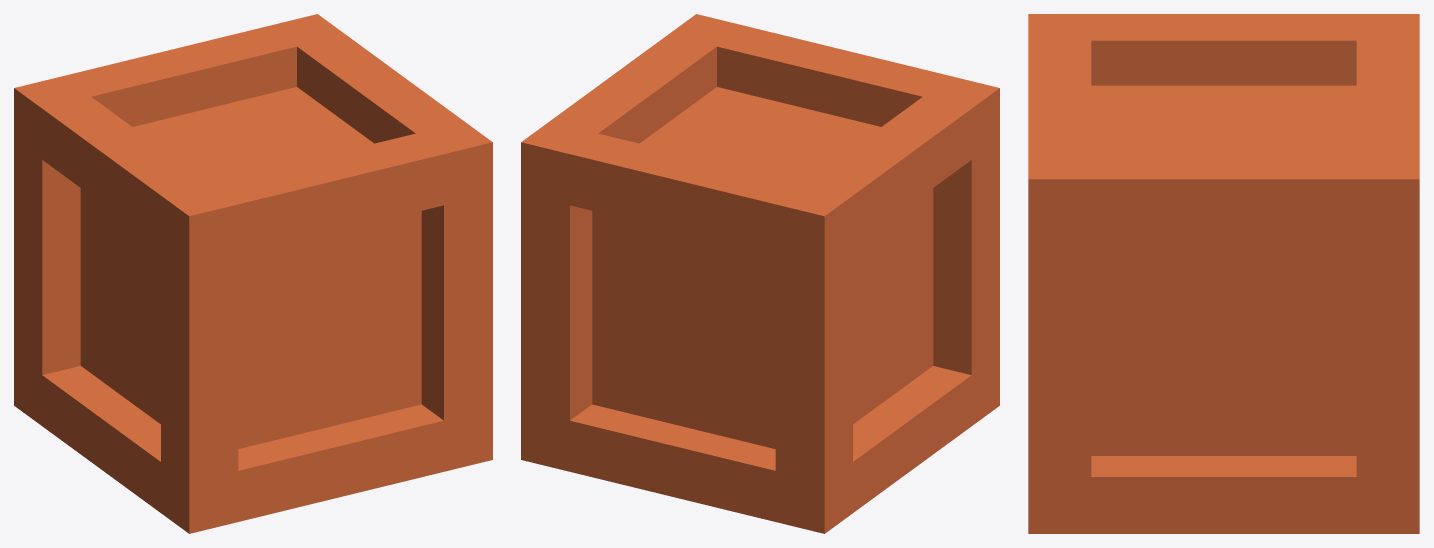
3 views of the same model, side by side, from view 1: azimuth 30°, elevation 25°; view 2: azimuth 150°, elevation 25°; view 3: azimuth 270°, elevation 25° (orthographic). The views are drawn at different scales.
Parts seen in each view (by area): view 1: Cube; view 2: Cube; view 3: Cube.
Part boxes in pixels (x1=…): Cube: x1=14, y1=14, x2=492, y2=533; Cube: x1=521, y1=14, x2=999, y2=533; Cube: x1=1028, y1=14, x2=1419, y2=533.
Size of the model in its own units: 2 by 2 by 2.
